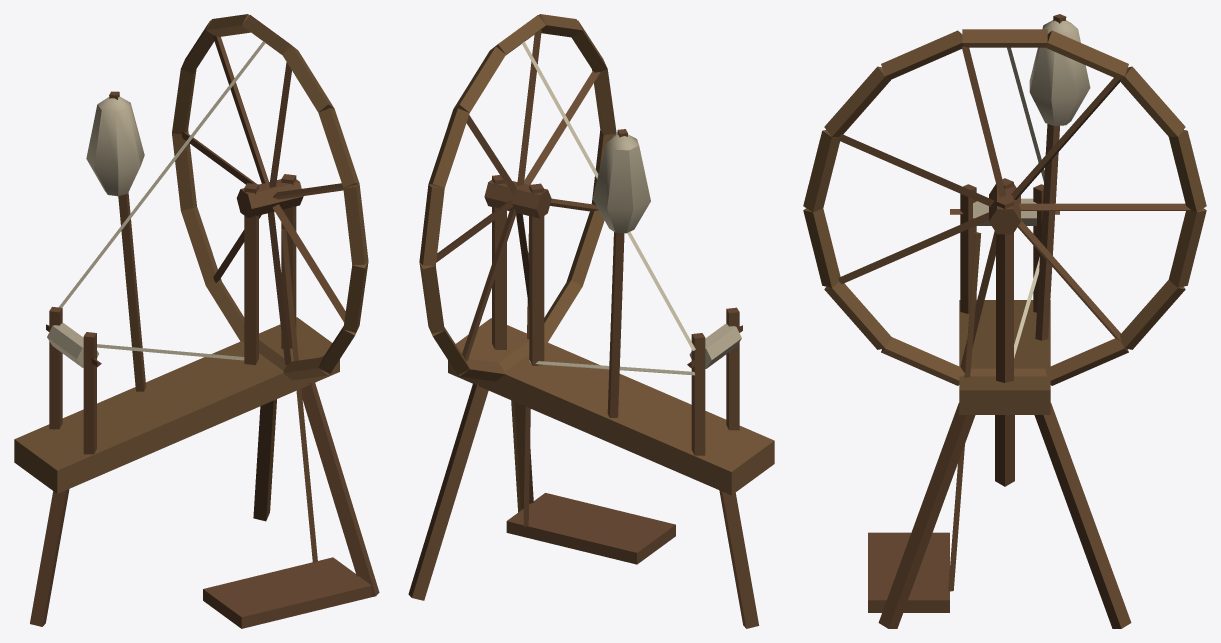
Rendered from SpinningWheel.fbx.
The picture shows the model from 3 angles, left to right: view 1: azimuth 30°, elevation 25°; view 2: azimuth 150°, elevation 25°; view 3: azimuth 270°, elevation 25°; orthographic projection. The views are drawn at different scales.
Visible parts, largest first — view 1: SpinningWheel; view 2: SpinningWheel; view 3: SpinningWheel.
Boxes of the visible parts, <box> form: SpinningWheel: <box>14,14,379,628</box>; SpinningWheel: <box>408,14,774,628</box>; SpinningWheel: <box>803,14,1206,628</box>.
Size of the model in its own units: 0.7934 by 1.39 by 0.8829.
